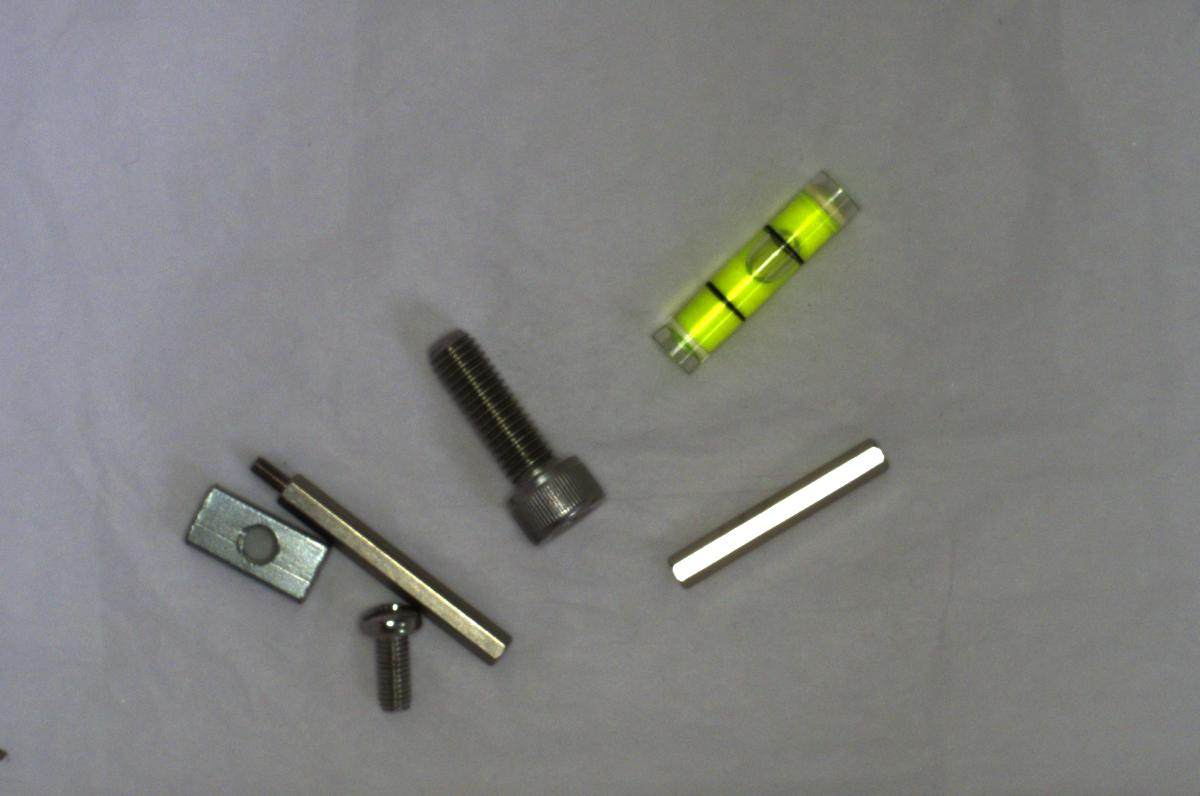Double hexagonal column: (657, 440, 894, 587)
Hexagon screw: (415, 316, 607, 547)
Hexagonal steel column: (234, 448, 519, 670)
Horizontal bubble: (644, 169, 859, 376)
Rectangular nut: (180, 483, 330, 603)
Round head screw: (357, 595, 422, 715)
